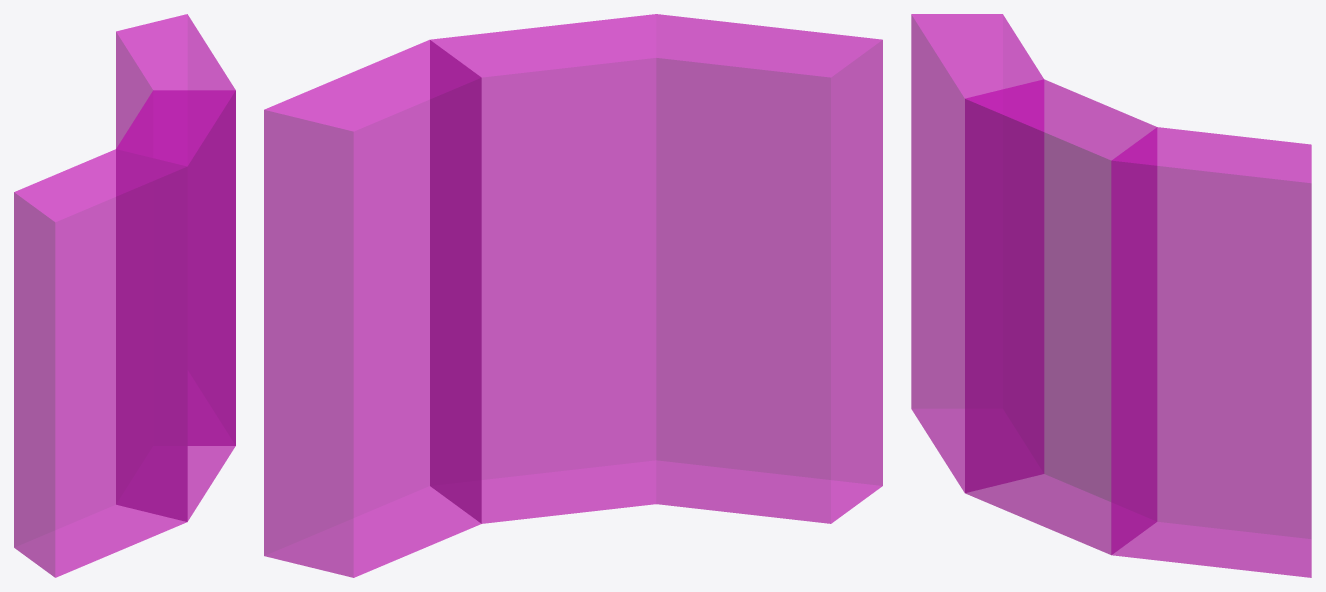
The model's file is SM_Bld_Wall_L_Curve_Half_01_Collision.fbx.
The picture shows the model from 3 angles, left to right: view 1: azimuth 30°, elevation 25°; view 2: azimuth 150°, elevation 25°; view 3: azimuth 270°, elevation 25°; orthographic projection. The views are drawn at different scales.
Visible parts, largest first — view 1: SM_Bld_Wall_L_Curve_Half_01_Collision; view 2: SM_Bld_Wall_L_Curve_Half_01_Collision; view 3: SM_Bld_Wall_L_Curve_Half_01_Collision.
Part boxes in pixels (x1=…): SM_Bld_Wall_L_Curve_Half_01_Collision: x1=14, y1=14, x2=235, y2=577; SM_Bld_Wall_L_Curve_Half_01_Collision: x1=264, y1=14, x2=882, y2=577; SM_Bld_Wall_L_Curve_Half_01_Collision: x1=911, y1=14, x2=1311, y2=577.
Bounding box in the file's own units: 283 × 308 × 283.
